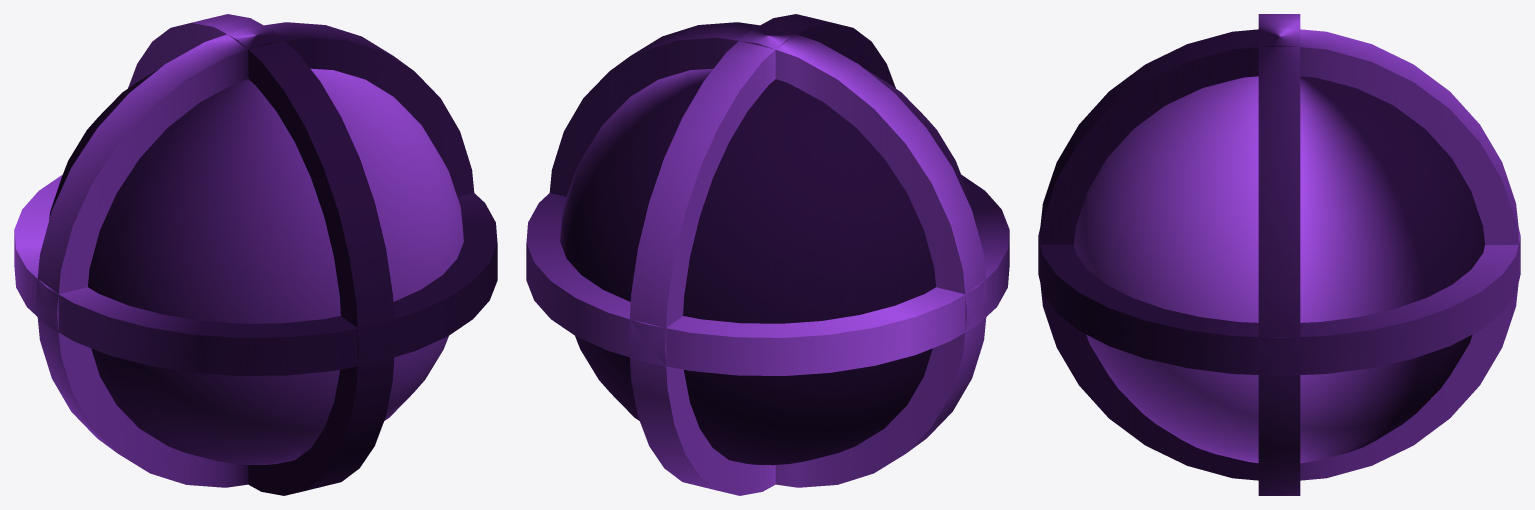
The model's file is Ball-21.dae.
3 views of the same model, side by side, from view 1: azimuth 30°, elevation 25°; view 2: azimuth 150°, elevation 25°; view 3: azimuth 270°, elevation 25° (orthographic).
Parts seen in each view (by area): view 1: Ball; view 2: Ball; view 3: Ball.
Part boxes in pixels (x1,y1,x2,y2): Ball: (14, 14, 497, 495); Ball: (526, 14, 1009, 495); Ball: (1038, 14, 1520, 495).
Bounding box in the file's own units: 0.046 × 0.046 × 0.046.
Materials: 2 (2 with a texture image).
